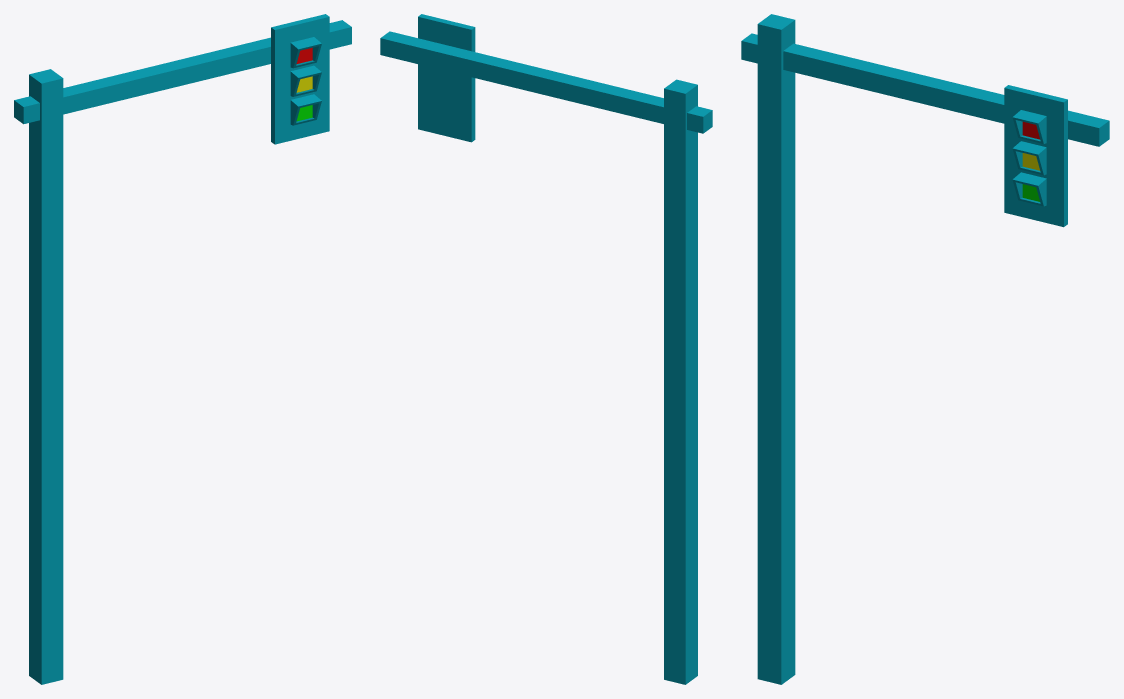
File: cubetrafficlight.fbx
The picture shows the model from 3 angles, left to right: view 1: azimuth 30°, elevation 25°; view 2: azimuth 150°, elevation 25°; view 3: azimuth 330°, elevation 25°; orthographic projection. The views are drawn at different scales.
Visible parts, largest first — view 1: cube_lightPole_GEO1; view 2: cube_lightPole_GEO1; view 3: cube_lightPole_GEO1.
Boxes of the visible parts, box(x1,y1,x2,y2) form: cube_lightPole_GEO1: box(14, 14, 351, 684); cube_lightPole_GEO1: box(380, 14, 712, 684); cube_lightPole_GEO1: box(741, 14, 1109, 684).
Size of the model in its own units: 60 by 105 by 7.62.
